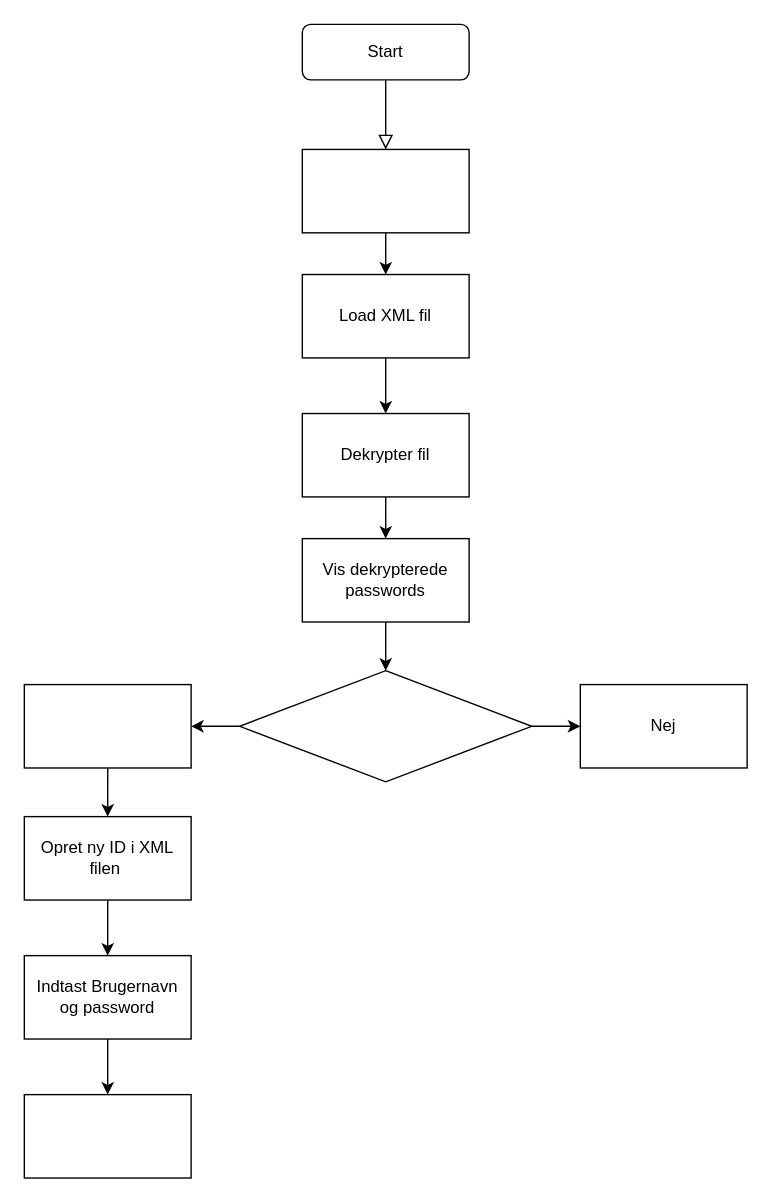
Image size: 771x1202. Some labels were removed from this diagram. The box of each missing label's shape, as (x1, y1, x2, y2) in pixels:
Indtast password: (301, 148, 469, 233)
Ja: (23, 683, 191, 768)
Krypter data og gem i XML fil: (23, 1093, 191, 1178)
Opret ny bruger: (238, 669, 532, 782)
